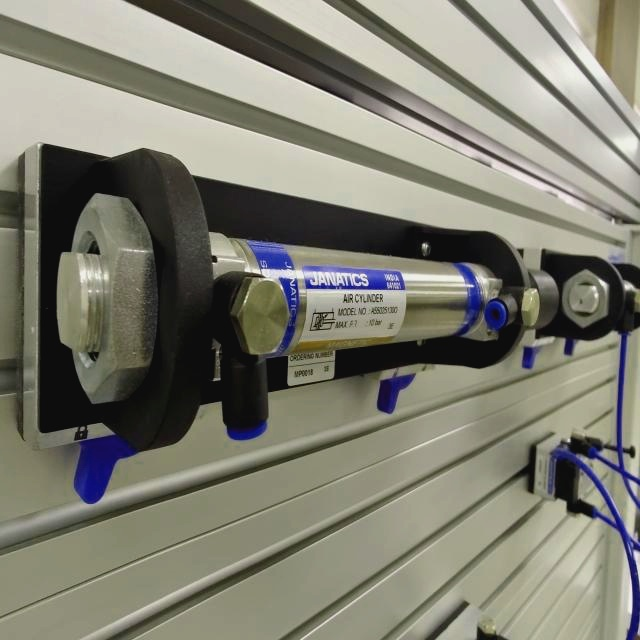double acting pneumatic cylinder: (24, 107, 563, 517)
